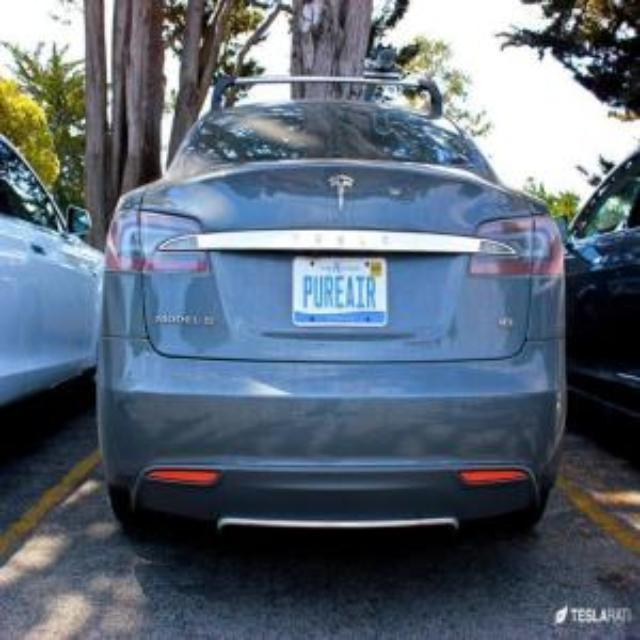License Plate: (293, 257, 388, 326)
